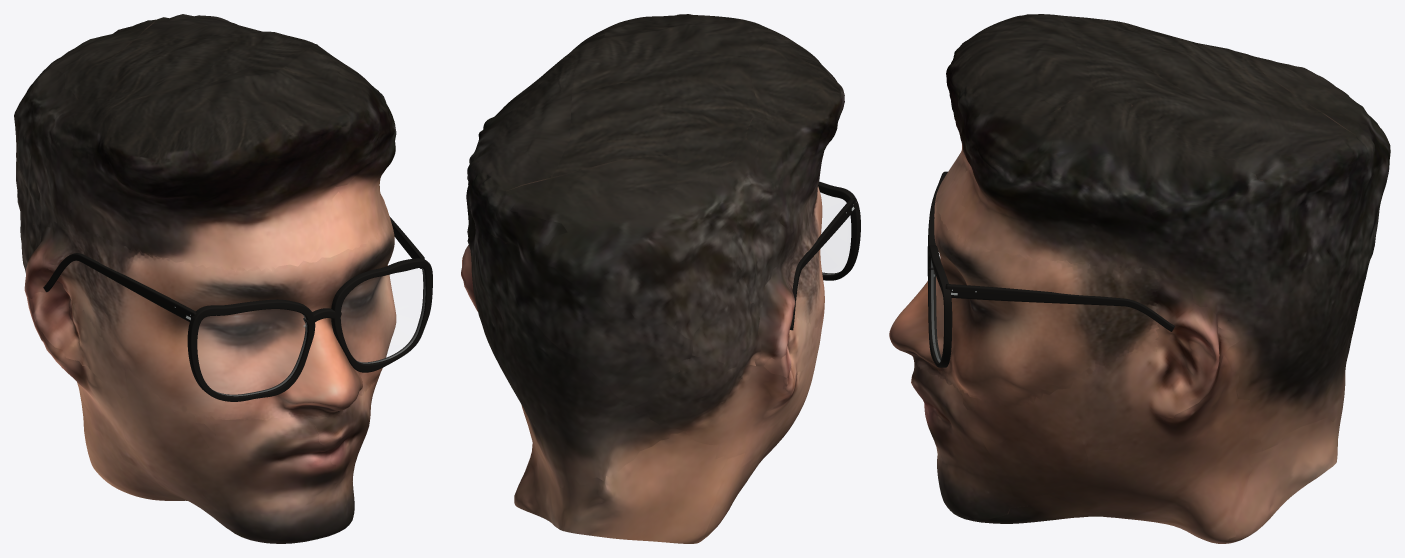
3 renders of one model, left to right at view 1: azimuth 30°, elevation 25°; view 2: azimuth 150°, elevation 25°; view 3: azimuth 270°, elevation 25°, orthographic. The views are drawn at different scales.
Visible parts, largest first — view 1: world, Eyeglass rim 1, Eyeglass rim 2, Eyeglass temple 1; view 2: world, Eyeglass rim 1, Eyeglass temple 1; view 3: world, Eyeglass temple 2, Eyeglass rim 2.
Boxes of the visible parts, x1=… form: world: x1=14, y1=14, x2=396, y2=543; Eyeglass rim 1: x1=187, y1=299, x2=315, y2=401; Eyeglass rim 2: x1=331, y1=258, x2=432, y2=372; Eyeglass temple 1: x1=43, y1=253, x2=196, y2=321; world: x1=461, y1=14, x2=844, y2=543; Eyeglass rim 1: x1=818, y1=181, x2=860, y2=280; Eyeglass temple 1: x1=790, y1=198, x2=855, y2=330; world: x1=889, y1=14, x2=1390, y2=543; Eyeglass temple 2: x1=945, y1=284, x2=1174, y2=331; Eyeglass rim 2: x1=927, y1=245, x2=952, y2=367.
Bounding box in the file's own units: 0.2263 × 0.3054 × 0.2949.
Materials: 7 (1 with a texture image).
